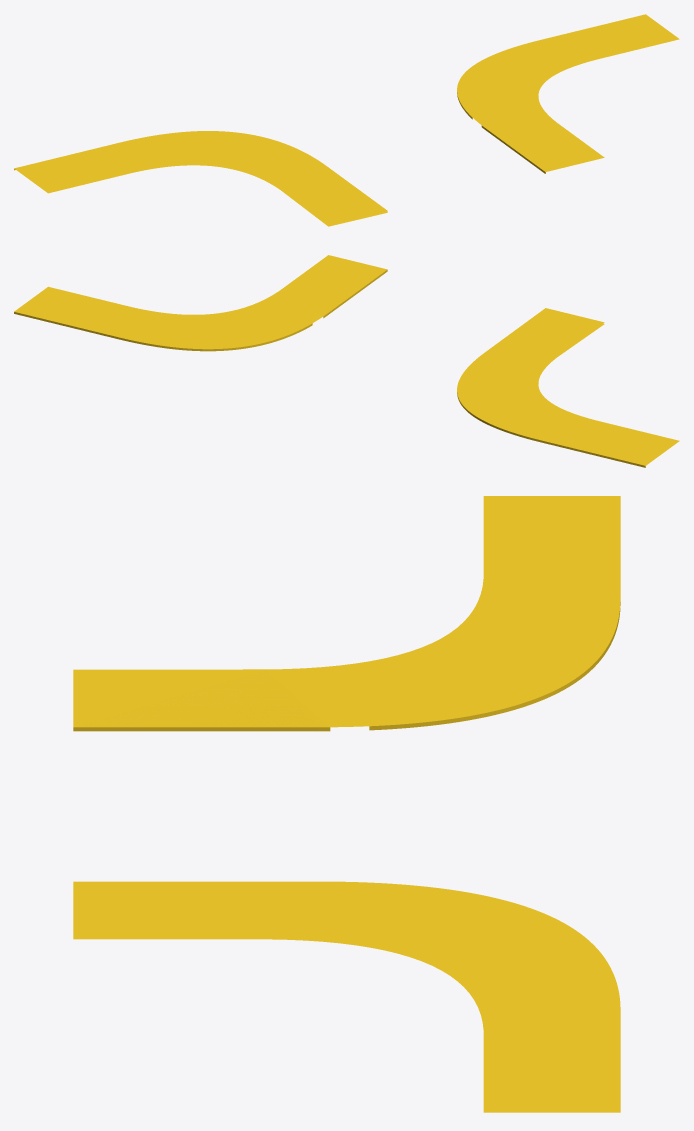
The model's file is Side_Building_Footprint.FBX.
3 views of the same model, one above another, from view 1: azimuth 30°, elevation 25°; view 2: azimuth 150°, elevation 25°; view 3: azimuth 270°, elevation 25° (orthographic). The views are drawn at different scales.
Visible parts, largest first — view 1: Side_Buildings_Footprint; view 2: Side_Buildings_Footprint; view 3: Side_Buildings_Footprint.
Boxes of the visible parts, <box> form: Side_Buildings_Footprint: <box>14,14,679,226</box>; Side_Buildings_Footprint: <box>14,255,679,467</box>; Side_Buildings_Footprint: <box>73,496,620,1112</box>.
Bounding box in the file's own units: 9600 × 3600 × 30.
